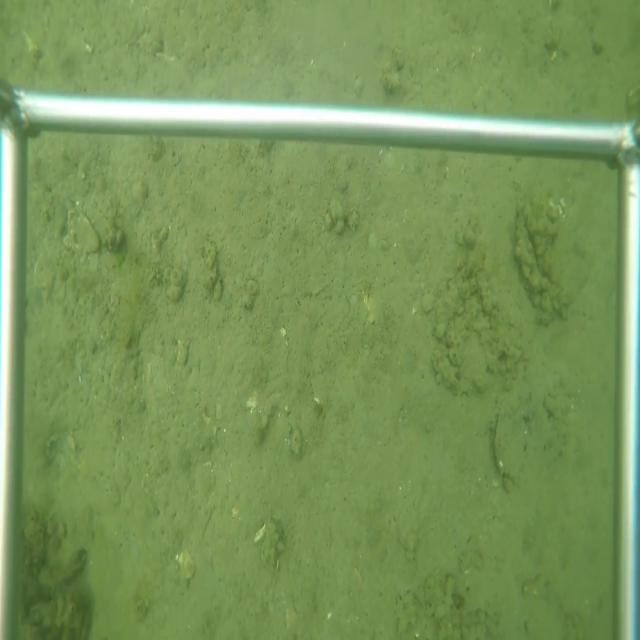Oyster-Indeterminate: (493, 401, 530, 482)
